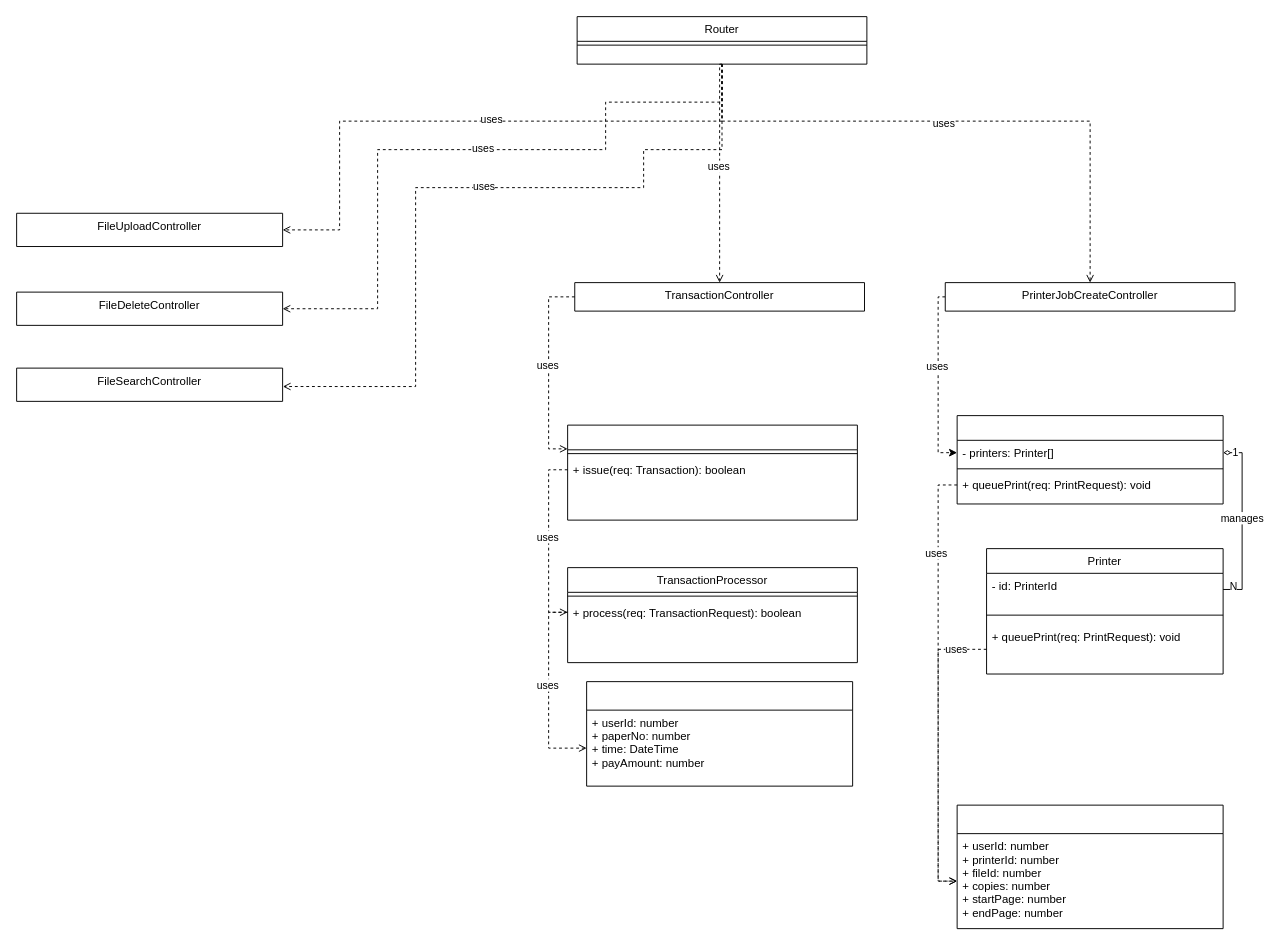
Some shapes in this 1280 by 948 pixel diagram are drawn without their labels. The box of each missing label's shape, as (x1, y1, x2, y2) in pixels:
PrinterProxy: (956, 415, 1223, 504)
PrintRequest: (956, 804, 1223, 929)
TransactionIssuer: (567, 424, 857, 520)
TransactionRequest: (586, 681, 853, 786)
